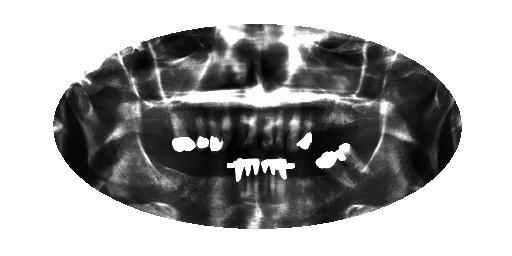u10decay: (241, 104, 260, 152)
u11loss: (227, 107, 247, 155)
u12decay: (215, 107, 233, 154)
u13healthy: (204, 112, 227, 155)
u14healthy: (191, 108, 211, 155)
u15healthy: (167, 109, 201, 157)
u6healthy: (294, 105, 316, 154)
u7healthy: (284, 106, 303, 155)
u8decay: (272, 103, 288, 153)
u9decay: (257, 104, 275, 155)
